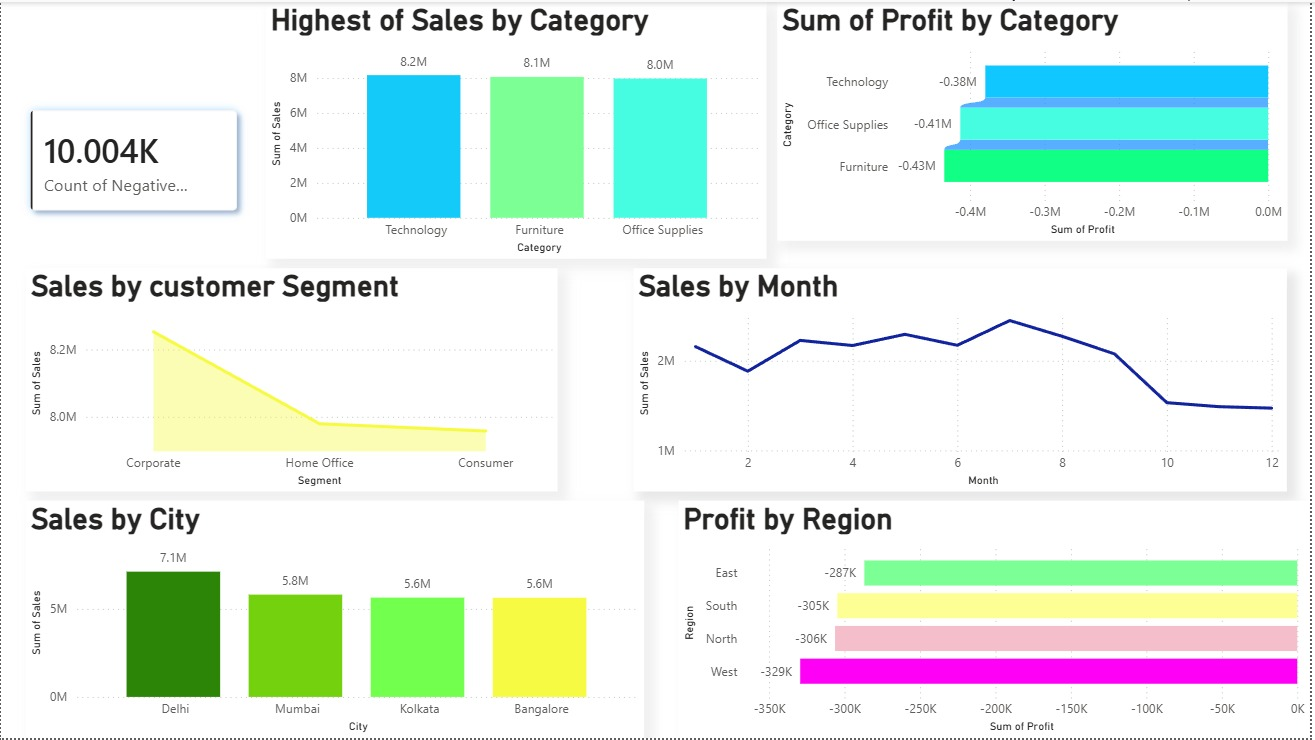

The page's visual inventory and layout, read from the dashboard file:
{"tool":"powerbi","page":{"name":"Page 1","canvas":[1280,720],"ordinal":0},"visuals":[{"type":"cardVisual","fields":{"Data":["CountNonNull(clean superstore (2).Negative Transactions)"]},"box":[0,76.8,260.7,156.4],"z":2},{"type":"clusteredColumnChart","title":"Highest of Sales by Category","fields":{"Category":["clean superstore (2).Category"],"Y":["Sum(clean superstore (2).Sales)"]},"box":[259.3,0,489.9,251.1],"z":3},{"type":"barChart","fields":{"Category":["clean superstore (2).Category"],"Y":["Sum(clean superstore (2).Profit)"]},"box":[758.8,0,499.5,233.3],"z":4},{"type":"lineChart","title":"Sales by Month","fields":{"Category":["clean superstore (2).Month"],"Y":["Sum(clean superstore (2).Sales)"]},"box":[618.9,260.7,639.5,218.2],"z":5},{"type":"areaChart","title":"Sales by customer Segment","fields":{"Category":["clean superstore (2).Segment"],"Y":["Sum(clean superstore (2).Sales)"]},"box":[24.7,260.7,520.1,218.2],"z":6},{"type":"clusteredColumnChart","title":"Sales by City","fields":{"Y":["Sum(clean superstore (2).Sales)"],"Category":["clean superstore (2).City"]},"box":[24.7,488.5,605.1,231.9],"z":7},{"type":"clusteredBarChart","title":"Profit by Region","fields":{"Category":["clean superstore (2).Region"],"Y":["Sum(clean superstore (2).Profit)"]},"box":[662.8,488.5,617.5,231.9],"z":8}]}

Visuals, with their boxes in screenshot pixels (x1, y1, x2, y2), scaled from the page's 1280x720 canvas onto the 1315x740 screenshot:
cardVisual - CountNonNull(clean superstore (2).Negative Transactions): select_region(0, 79, 268, 240)
"Highest of Sales by Category" clusteredColumnChart: select_region(266, 0, 770, 258)
barChart - clean superstore (2).Category x Sum(clean superstore (2).Profit): select_region(780, 0, 1293, 240)
"Sales by Month" lineChart: select_region(636, 268, 1293, 492)
"Sales by customer Segment" areaChart: select_region(25, 268, 560, 492)
"Sales by City" clusteredColumnChart: select_region(25, 502, 647, 739)
"Profit by Region" clusteredBarChart: select_region(681, 502, 1314, 739)
